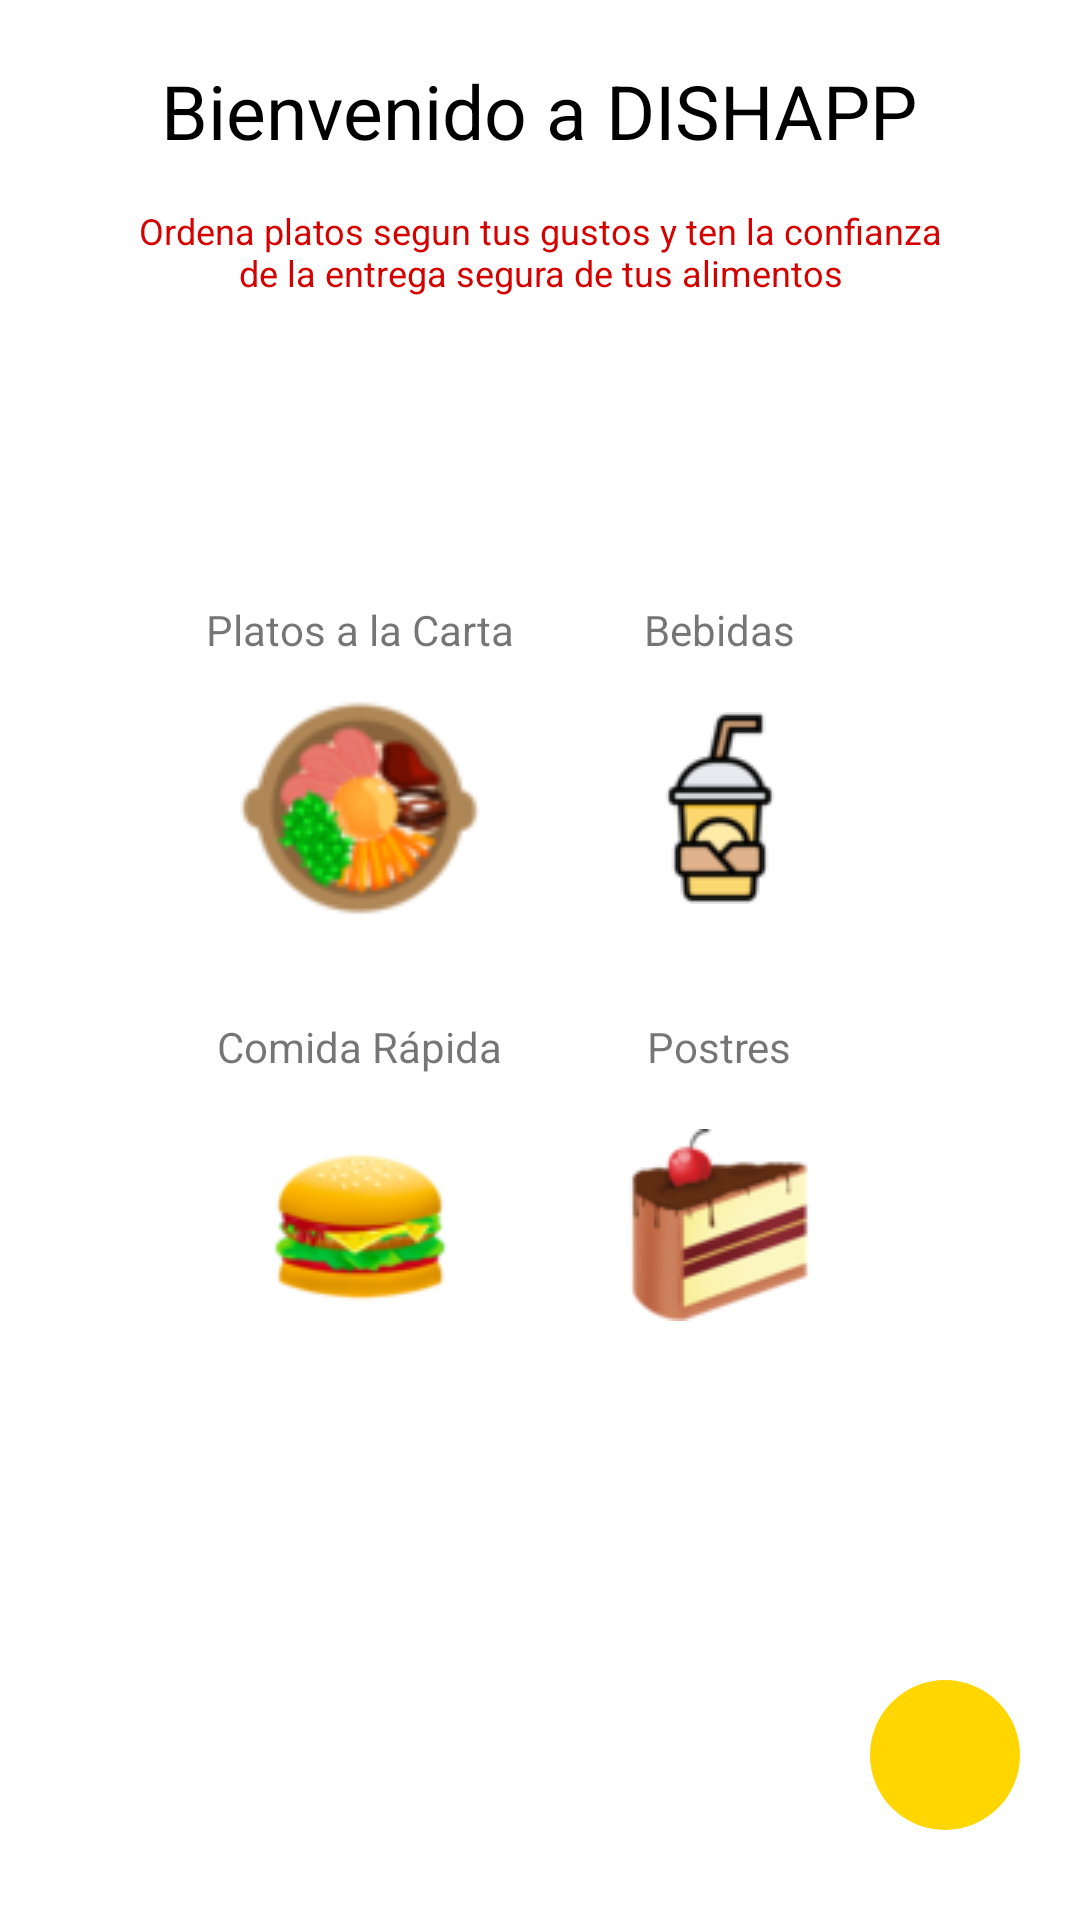

Screen size 1080×1920. Icon name, then its center in pixels as point (x, y):
burger: point (360, 1227)
cake: point (720, 1225)
food: point (360, 808)
